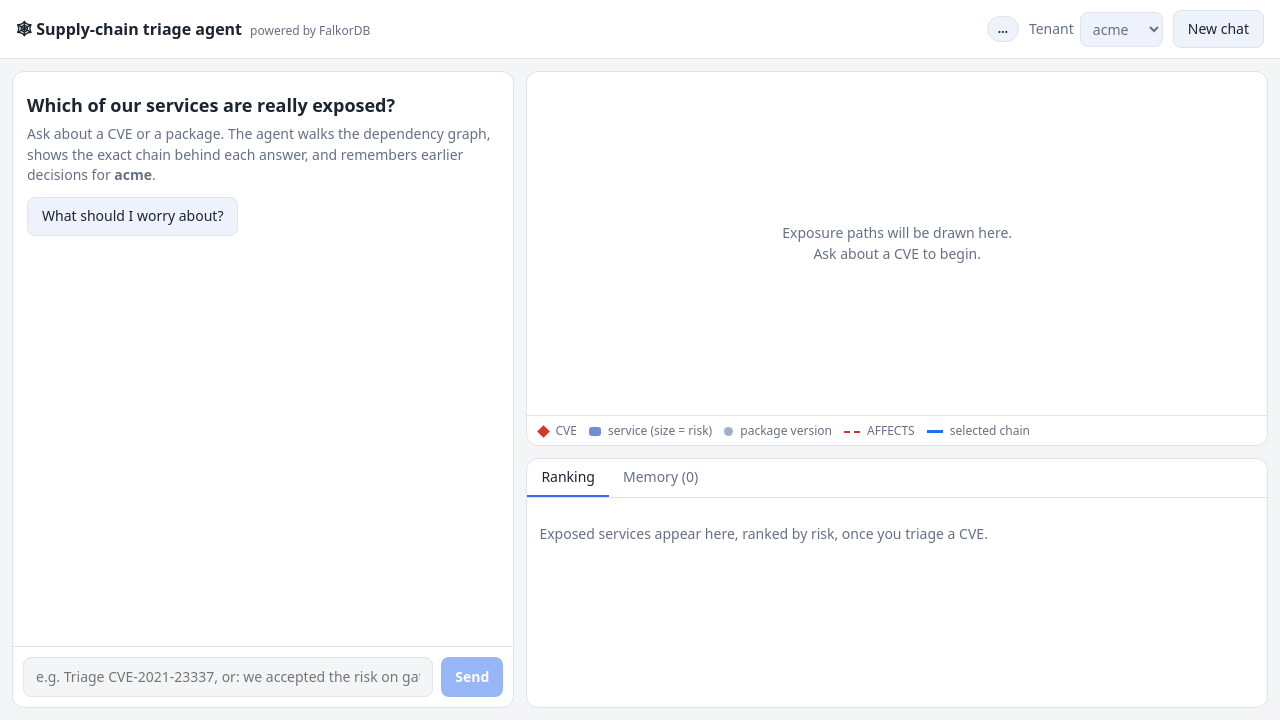
Test case: triage UI › shows a stream error in the chat and lets the user continue
This screenshot has width=1280, height=720.
Click the button "What should I worry about?": (133,216) [27,197,238,236]
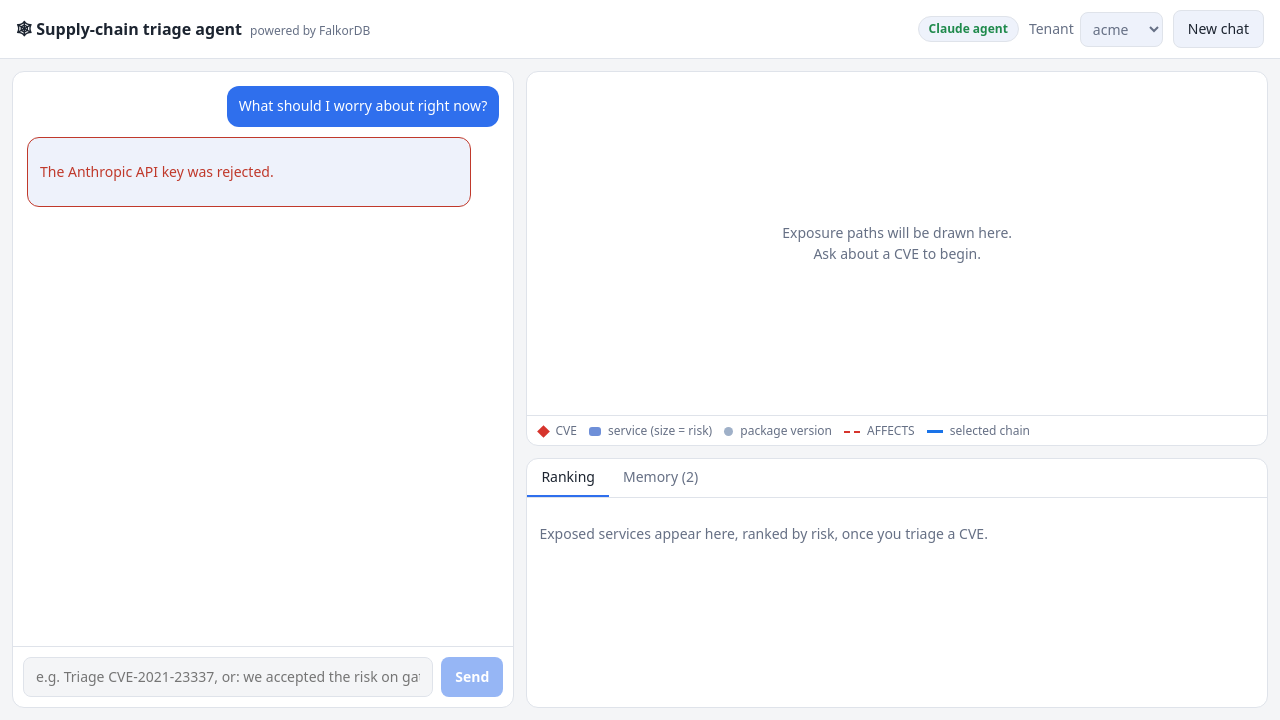
Expected: the button "Send" is shown, [441,657,503,697]
Expected: the text "The Anthropic API key was rejected." is shown, [40,162,274,181]
Expected: the text "Claude agent" is shown, [918,16,1019,42]
